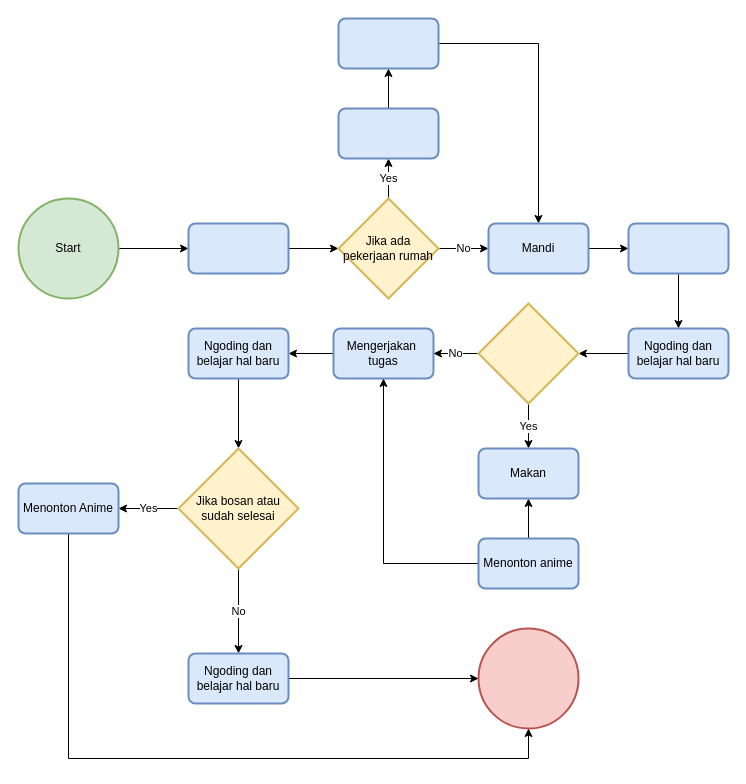
Image size: 746x784. Some labels were removed from this diagram. Here are the shapes that lost their labels. From the top down, the box of each, then its label:
(337, 17, 439, 69): Menjemur pakaian
(337, 107, 439, 159): Mencuci
(187, 222, 289, 274): Sarapan
(627, 222, 729, 274): Buka laptop
(477, 302, 579, 404): Jika lelah
(477, 627, 579, 729): End
